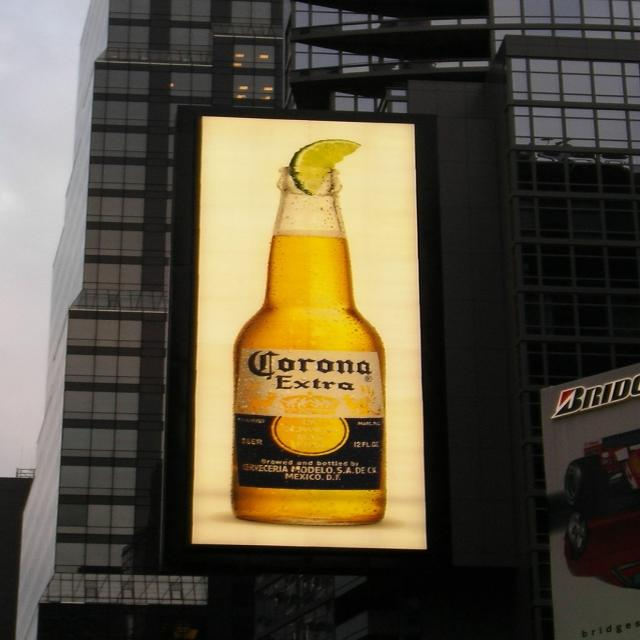corona: (234, 349, 386, 491)
